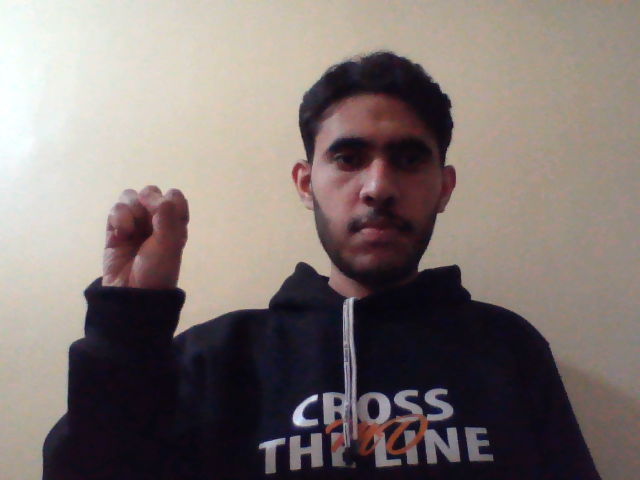S: (95, 178, 193, 309)
